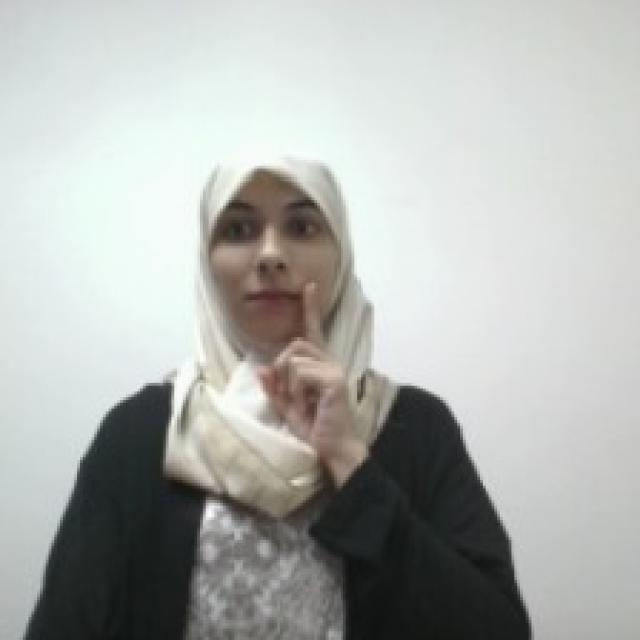mother: (252, 278, 360, 452)
